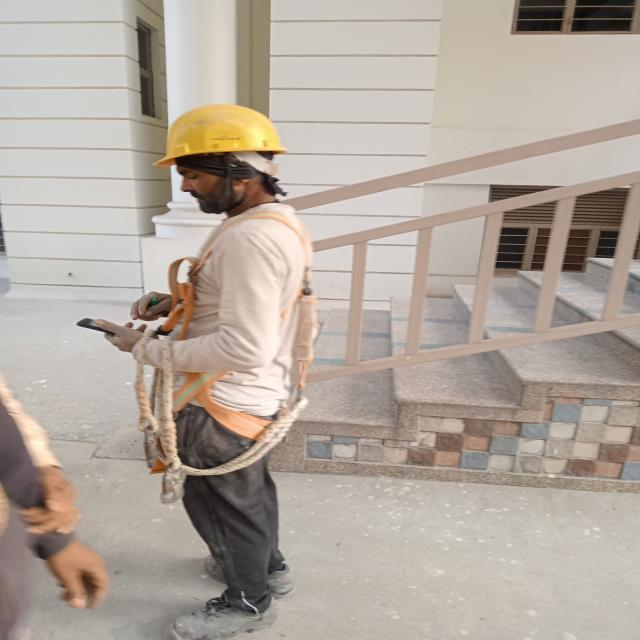no jacket: (92, 101, 320, 640)
